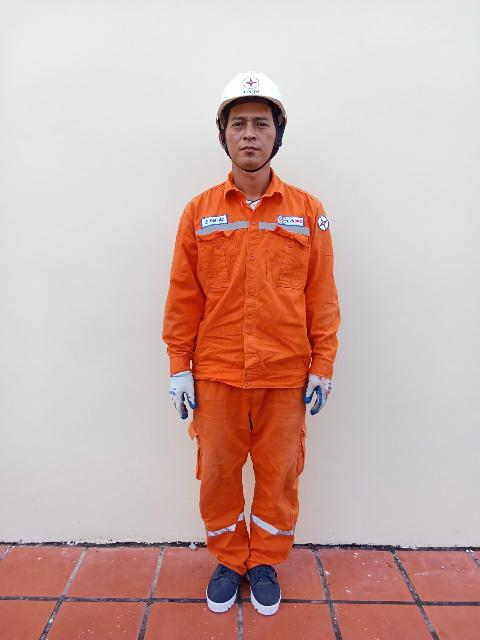gloves: (302, 352, 354, 411), (168, 356, 211, 427)
helmet: (209, 51, 302, 130)
shoes: (235, 543, 293, 615), (198, 541, 245, 619)
